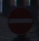No entry: (5, 6, 34, 36)
